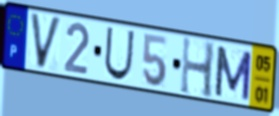2: (62, 21, 91, 77)
5: (142, 31, 169, 89)
H: (179, 34, 217, 101)
M: (213, 44, 254, 104)
U: (102, 25, 136, 82)
V: (28, 11, 64, 72)
